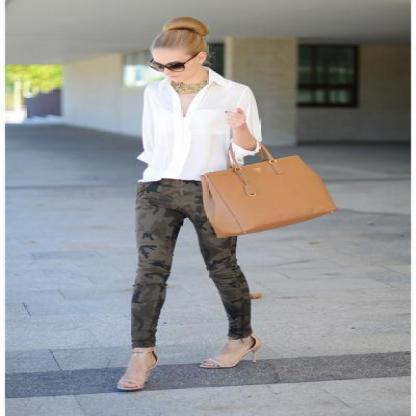bag: (195, 153, 336, 237)
pants: (131, 178, 258, 348)
shirt: (137, 68, 261, 183)
shoe: (214, 349, 244, 367)
sunglass: (162, 52, 199, 71)
